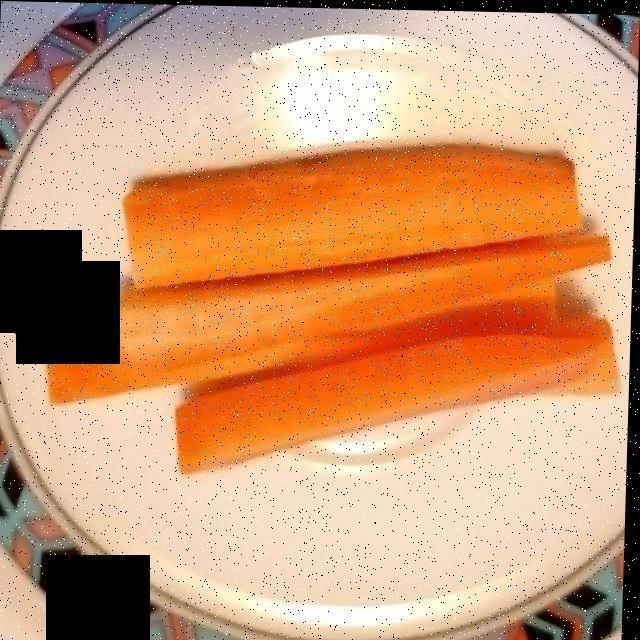carrot: (60, 148, 607, 466)
